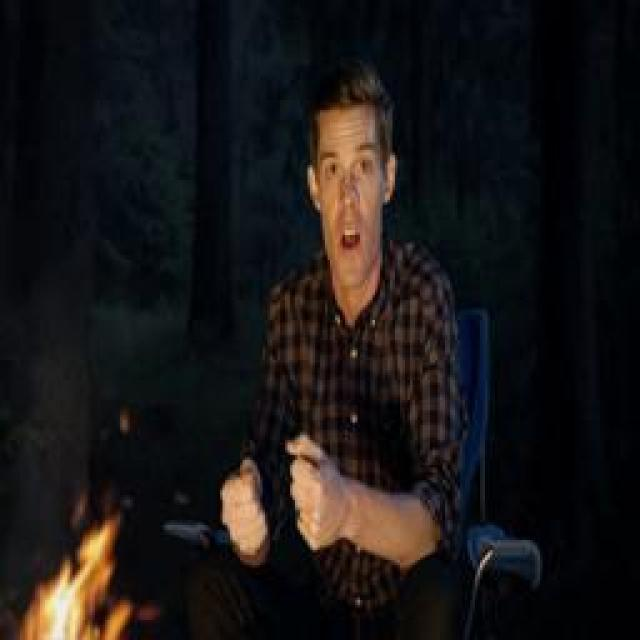Fire: (20, 512, 135, 640)
